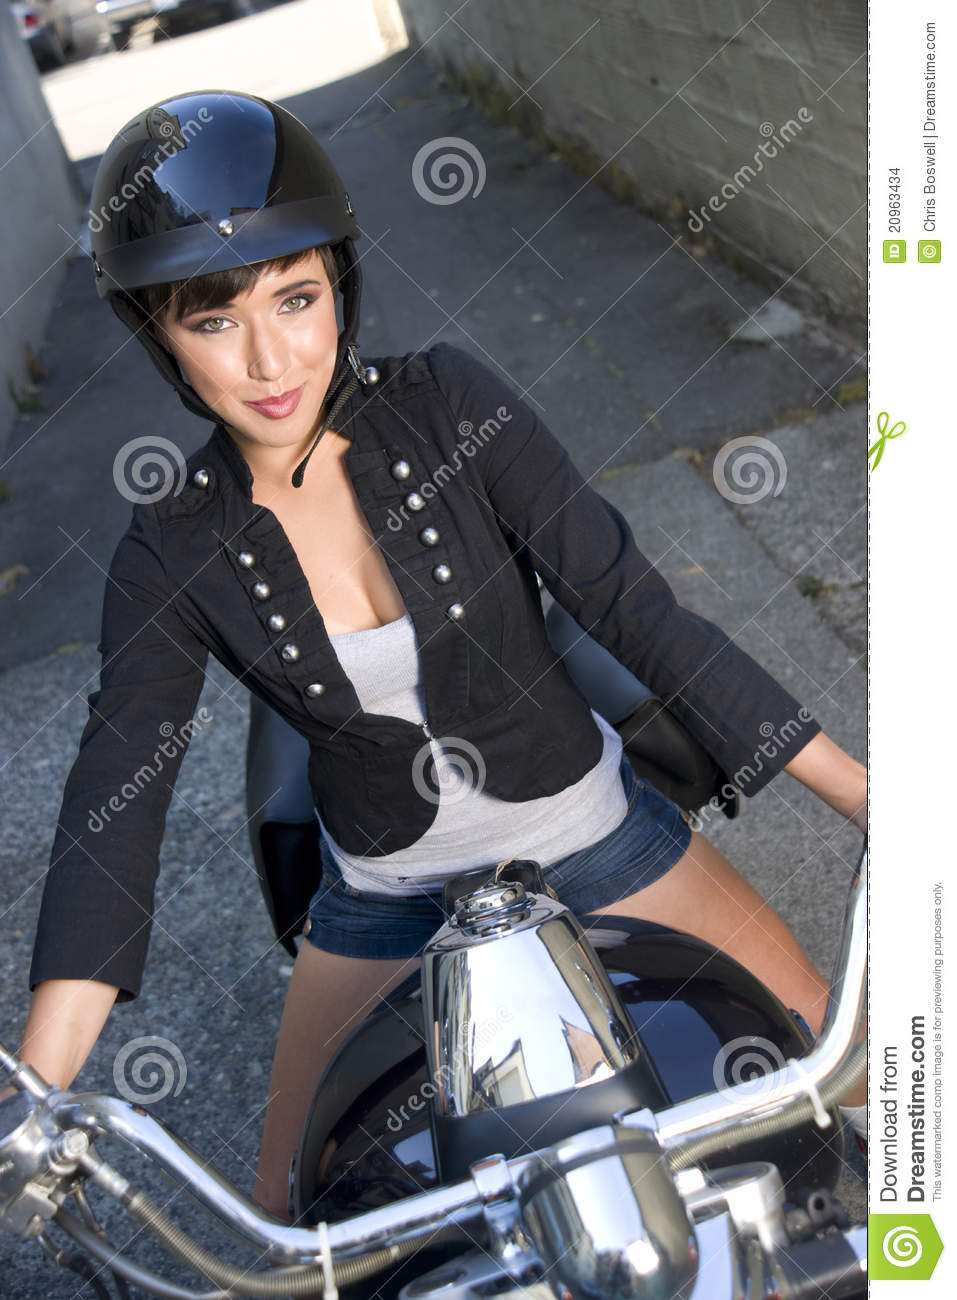helmet: (94, 109, 366, 303)
